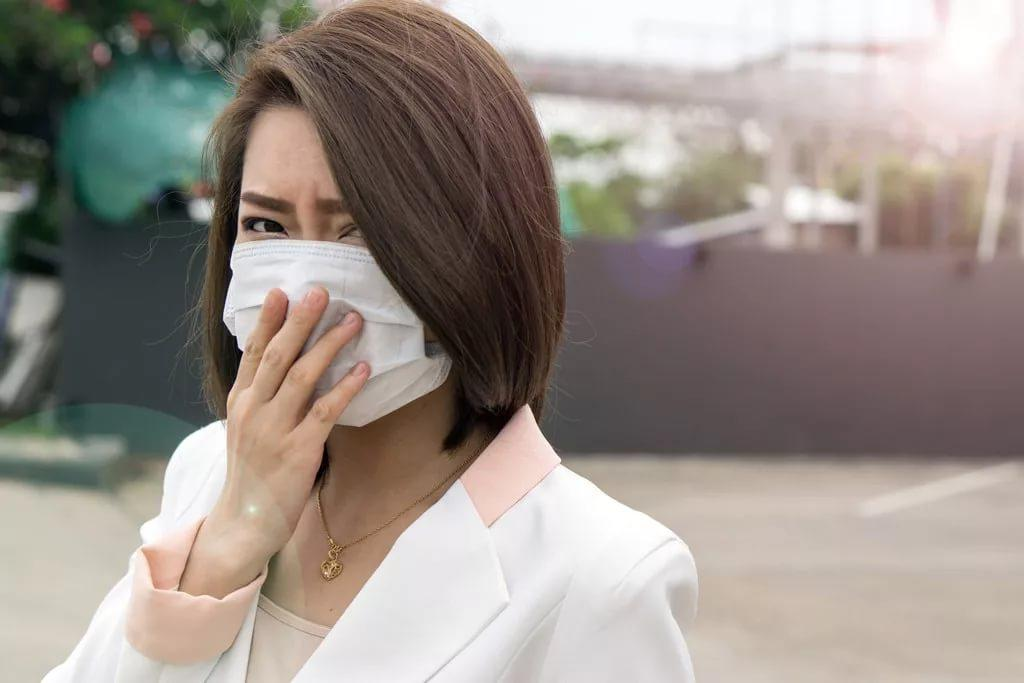mask: (223, 87, 450, 430)
